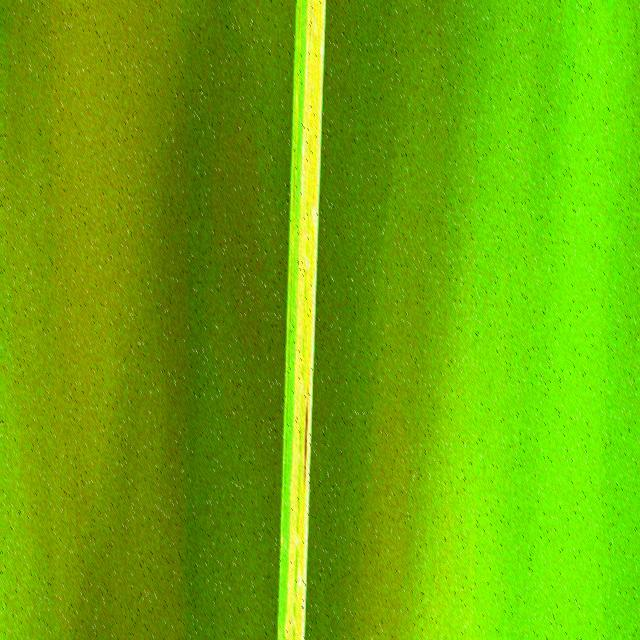BLS: (298, 2, 322, 640), (292, 2, 316, 640), (282, 2, 300, 560)
